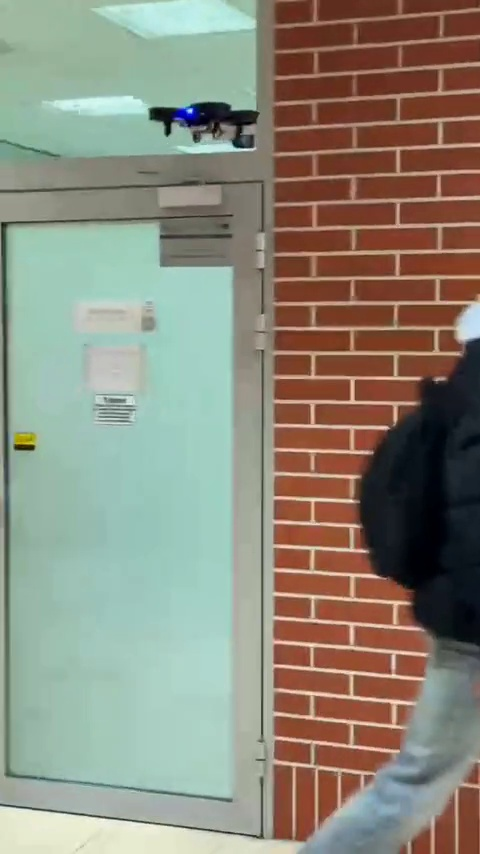drone: (150, 100, 264, 148)
